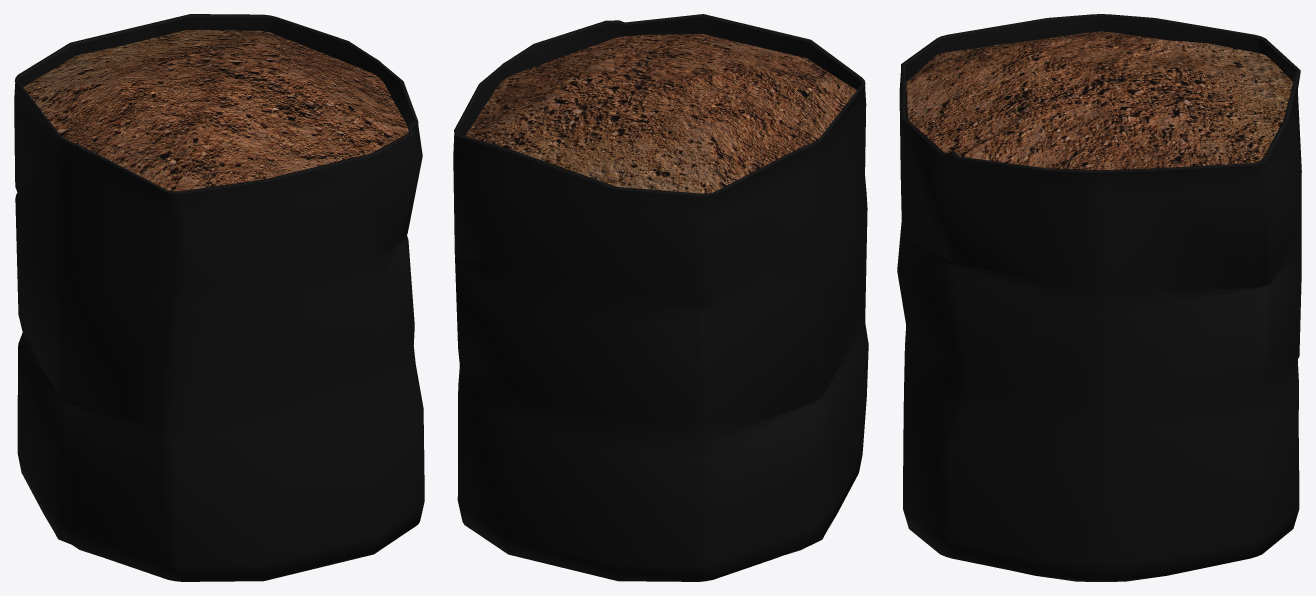
The model's file is seedling bag.fbx.
3 views of the same model, side by side, from view 1: azimuth 30°, elevation 25°; view 2: azimuth 150°, elevation 25°; view 3: azimuth 270°, elevation 25° (orthographic). The views are drawn at different scales.
Visible parts, largest first — view 1: seedling bag; view 2: seedling bag; view 3: seedling bag.
Part boxes in pixels (x1,y1,x2,y2): seedling bag: (14, 14, 424, 581); seedling bag: (453, 14, 868, 581); seedling bag: (897, 14, 1301, 581).
Size of the model in its own units: 5.62 by 7 by 5.94.
2 materials, 1 textured.
